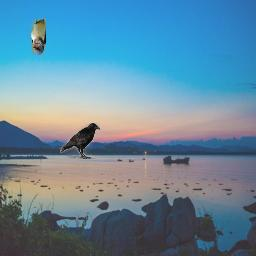Crow: (60, 123, 100, 159)
Swallow: (31, 19, 46, 55)
